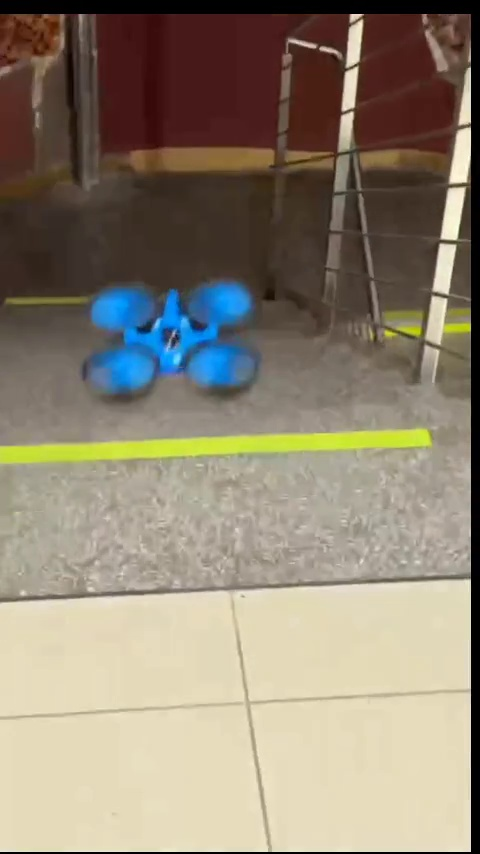drone: (81, 283, 268, 397)
